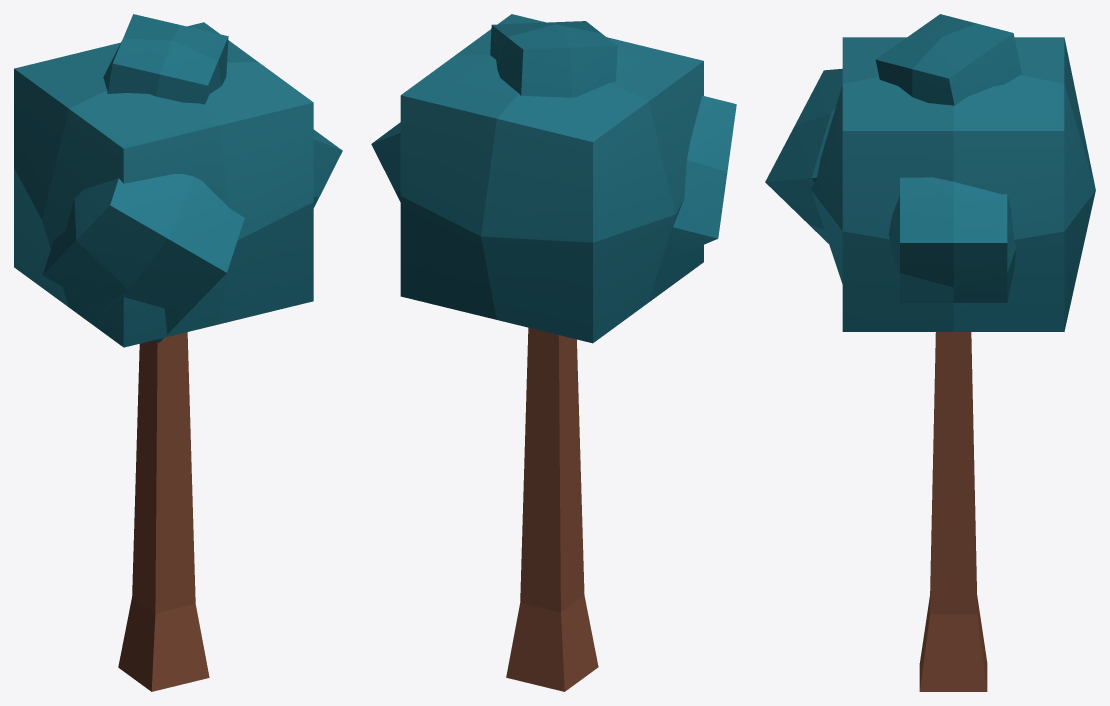
The model's file is Tree_43_gradient_blue_vc.fbx.
3 renders of one model, left to right at view 1: azimuth 30°, elevation 25°; view 2: azimuth 150°, elevation 25°; view 3: azimuth 270°, elevation 25°, orthographic.
Visible parts, largest first — view 1: Tree_43_gradient_blue_vc; view 2: Tree_43_gradient_blue_vc; view 3: Tree_43_gradient_blue_vc.
Boxes of the visible parts, x1,y1,x2,y2 form: Tree_43_gradient_blue_vc: (14,14,342,691); Tree_43_gradient_blue_vc: (371,14,736,691); Tree_43_gradient_blue_vc: (765,14,1095,691).
Bounding box in the file's own units: 76.72 × 158 × 73.68.
